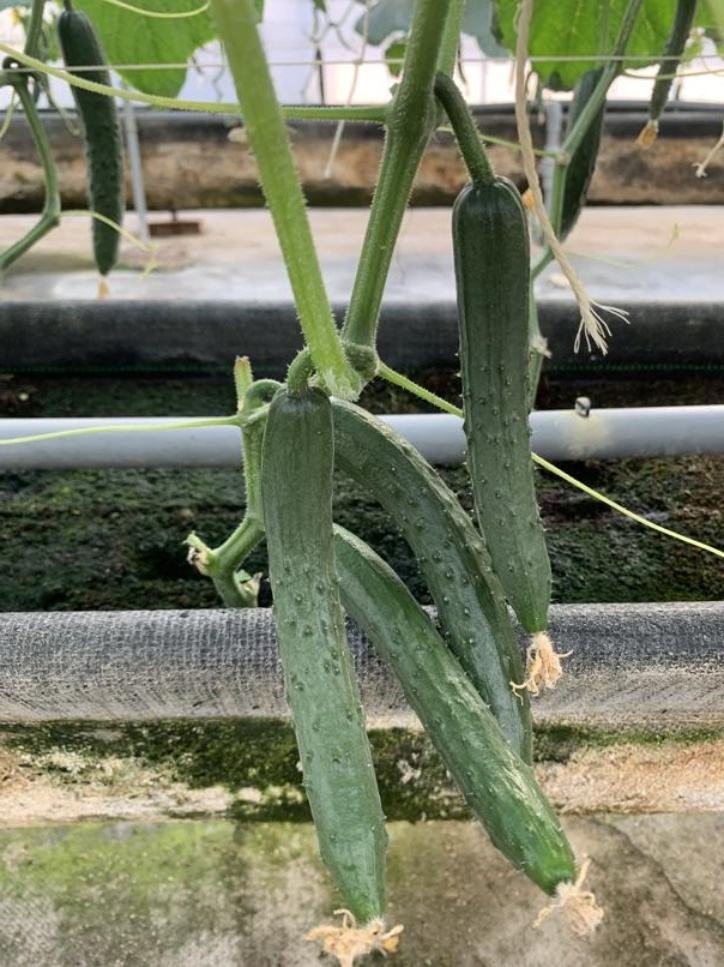mature: (332, 517, 574, 899), (246, 416, 405, 919), (328, 388, 541, 763), (449, 173, 562, 638)
